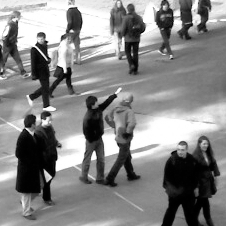dog: (162, 138, 201, 226), (17, 114, 43, 221), (194, 136, 222, 226), (38, 111, 62, 206)
person: (78, 87, 122, 185), (104, 91, 144, 186), (25, 31, 58, 112), (1, 10, 29, 78), (51, 29, 77, 98), (121, 3, 145, 75), (155, 1, 179, 60), (61, 1, 82, 67), (109, 1, 126, 59), (178, 1, 195, 38), (197, 1, 212, 31)
